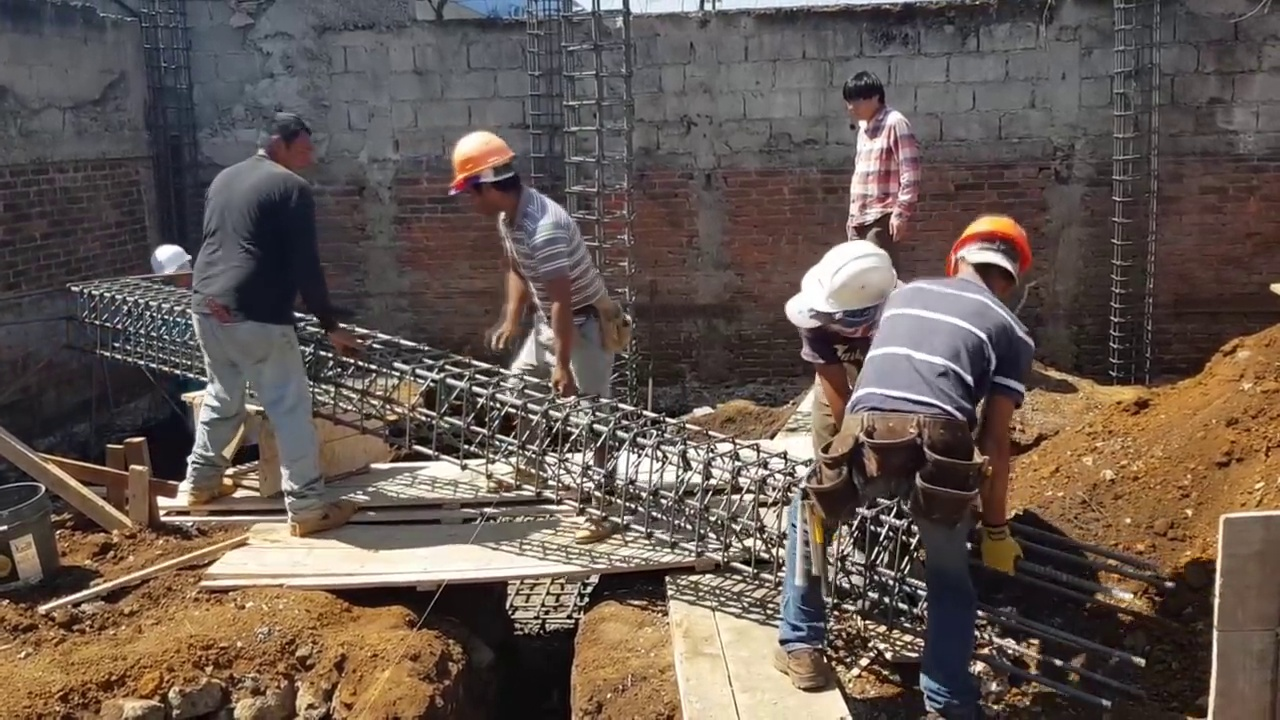helmet: (800, 242, 898, 320), (956, 213, 1031, 286), (447, 129, 517, 187), (146, 245, 195, 279)
helmet-off: (254, 110, 313, 173), (845, 70, 888, 122)
helmet-on: (787, 241, 902, 339), (938, 214, 1037, 307), (444, 129, 529, 224), (145, 243, 195, 292)
person: (778, 214, 1038, 720), (429, 129, 628, 543), (179, 112, 345, 547), (782, 244, 904, 466), (832, 67, 923, 253)
